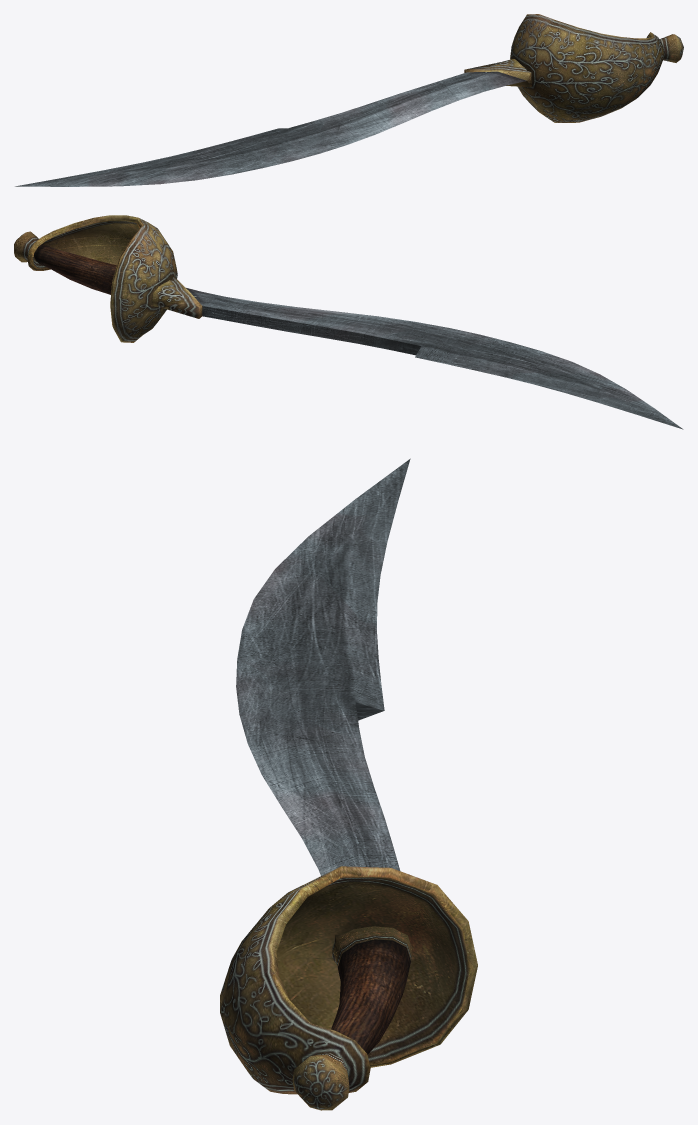
Rendered from Pirate_sword_B.FBX.
3 views of the same model, one above another, from view 1: azimuth 30°, elevation 25°; view 2: azimuth 150°, elevation 25°; view 3: azimuth 270°, elevation 25° (orthographic). The views are drawn at different scales.
Visible parts, largest first — view 1: Pirate_sword_B01; view 2: Pirate_sword_B01; view 3: Pirate_sword_B01.
Part boxes in pixels (bbox=[...]): Pirate_sword_B01: bbox=[15, 14, 683, 186]; Pirate_sword_B01: bbox=[14, 215, 683, 429]; Pirate_sword_B01: bbox=[220, 458, 477, 1110].
Bounding box in the file's own units: 98.72 × 15.08 × 17.09.
